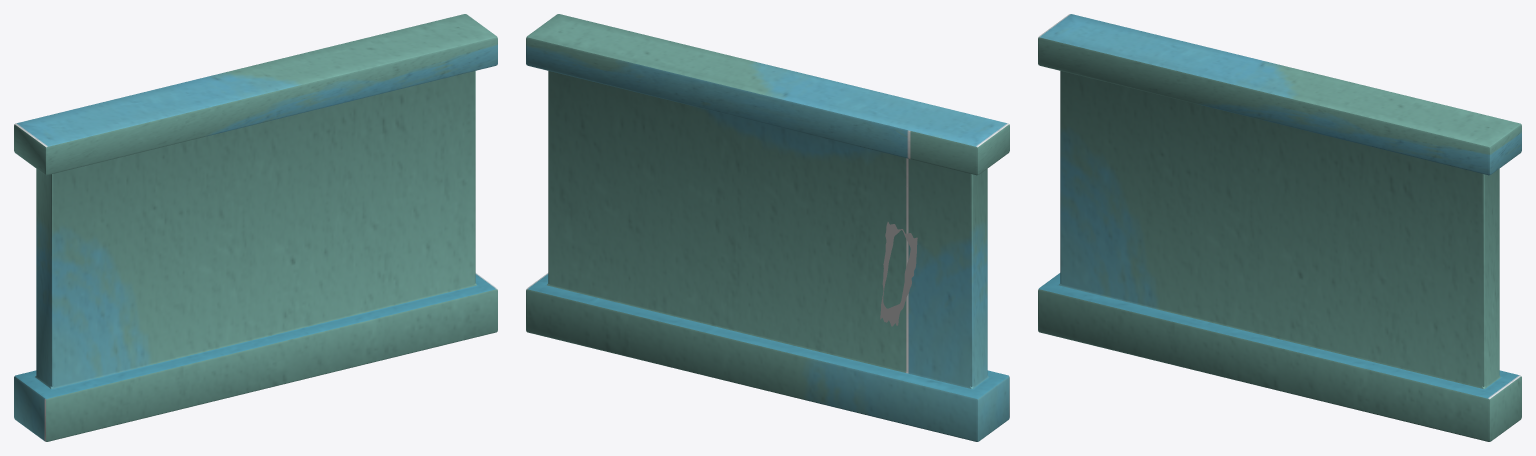
File: TOMB_WALL_3_2.obj
3 views of the same model, side by side, from view 1: azimuth 30°, elevation 25°; view 2: azimuth 150°, elevation 25°; view 3: azimuth 330°, elevation 25° (orthographic).
Parts seen in each view (by area): view 1: TOMB_WALL_3_2.003; view 2: TOMB_WALL_3_2.003; view 3: TOMB_WALL_3_2.003.
Part boxes in pixels (box(x1,y1,x2,y2)): TOMB_WALL_3_2.003: box(14, 14, 497, 441); TOMB_WALL_3_2.003: box(526, 14, 1009, 441); TOMB_WALL_3_2.003: box(1038, 14, 1521, 441).
Size of the model in its own units: 3.2 by 2 by 0.4.
